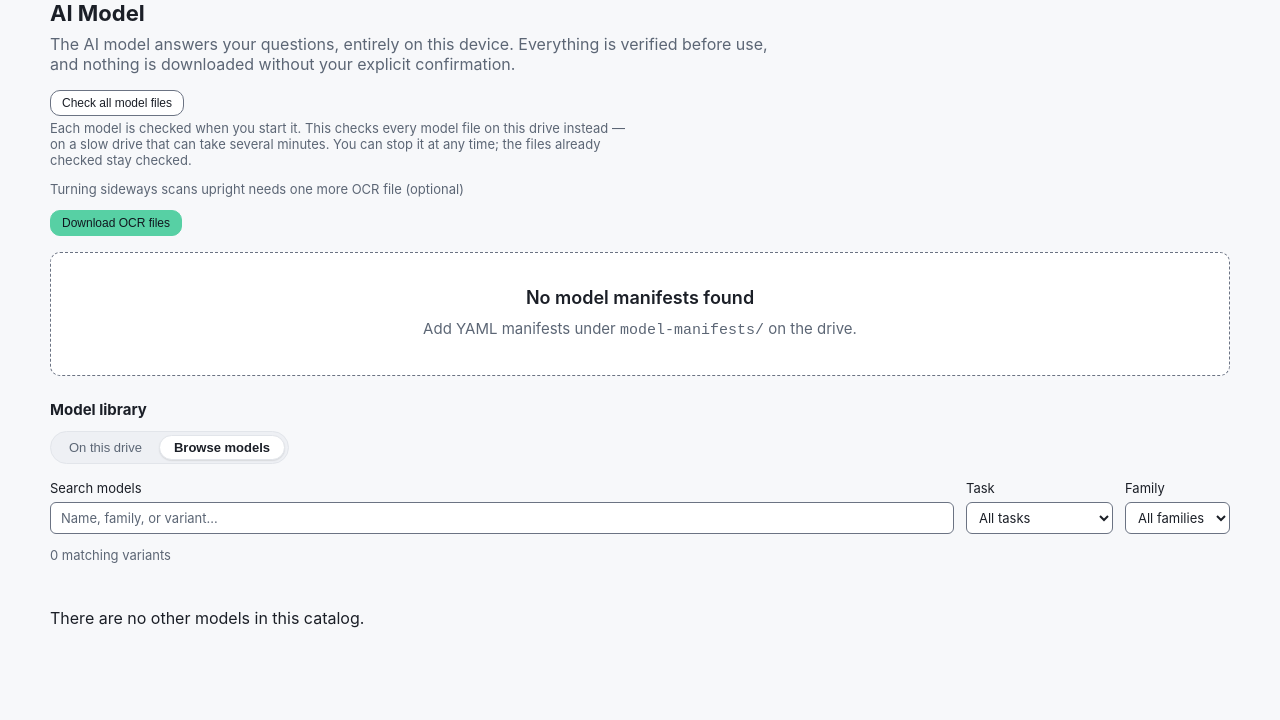
Test case: OcrInstall — AI Model screen row (#410) › 13b (#538): with both languages installed and only the orientation file missing, the row says what it adds
Expected: the text "Turning sideways scans upright needs one more OCR file (optional)" is shown, x1=50 y1=181 x2=464 y2=197
Click the button "Download OCR files".
click(116, 223)  # box x1=50 y1=210 x2=182 y2=236
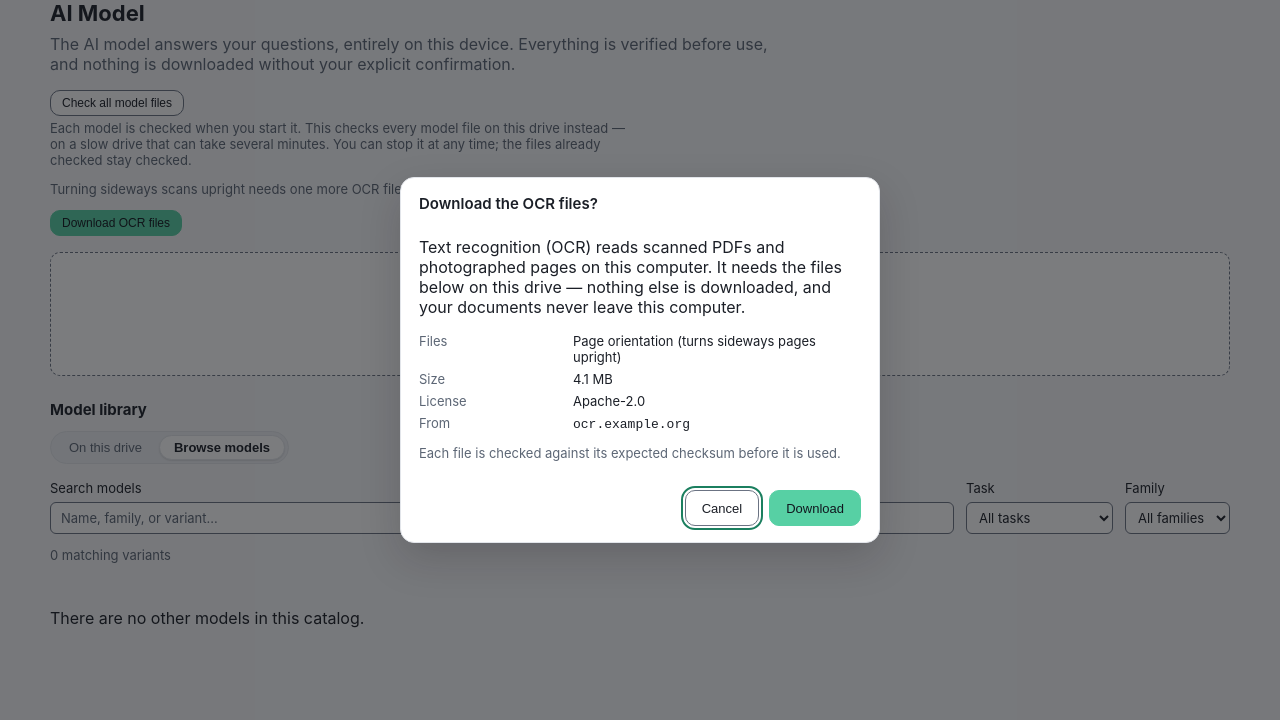
Now the text "Page orientation (turns sideways pages upright)" is shown, box x1=573 y1=333 x2=855 y2=365
